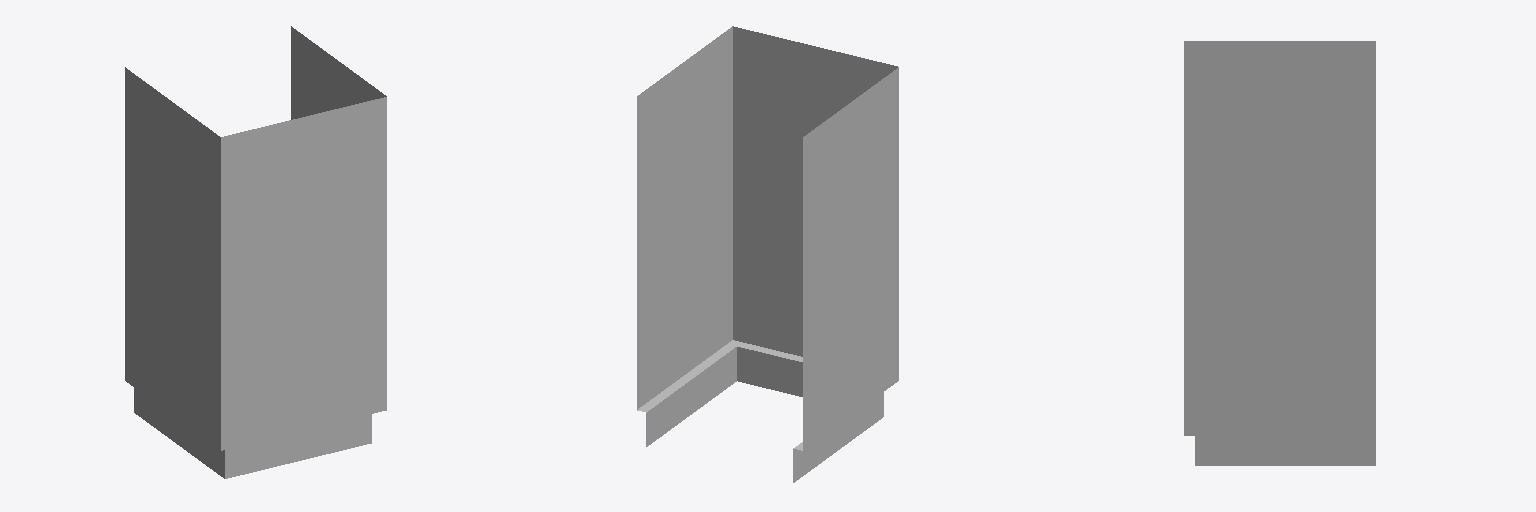
The model's file is tile_house_wall_endcap.obj.
3 renders of one model, left to right at view 1: azimuth 30°, elevation 25°; view 2: azimuth 150°, elevation 25°; view 3: azimuth 270°, elevation 25°, orthographic.
Parts seen in each view (by area): view 1: house_wall_endcap; view 2: house_wall_endcap; view 3: house_wall_endcap.
Part boxes in pixels (left/top/right/bottom): house_wall_endcap: left=125, top=26, right=386, bottom=478; house_wall_endcap: left=637, top=26, right=898, bottom=482; house_wall_endcap: left=1184, top=41, right=1375, bottom=465.
Size of the model in its own units: 2 by 4 by 2.